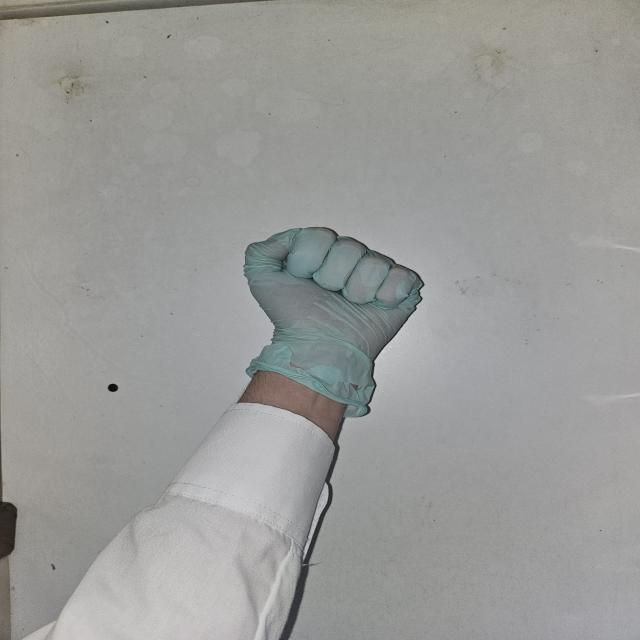gloves_damaged: (243, 225, 424, 418)
